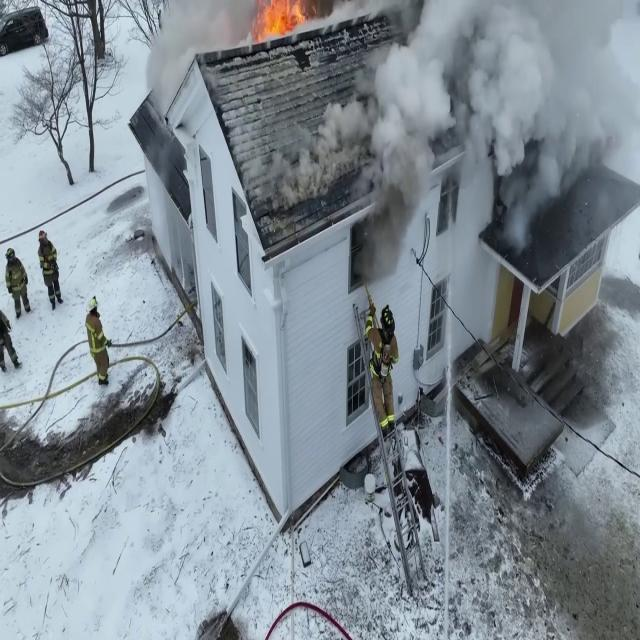Fire: (250, 0, 316, 52)
Smoke: (246, 0, 639, 261)
